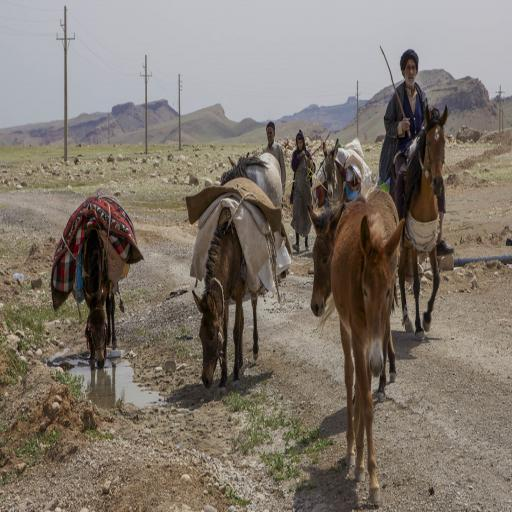horse: (390, 100, 450, 339), (56, 195, 136, 374)
